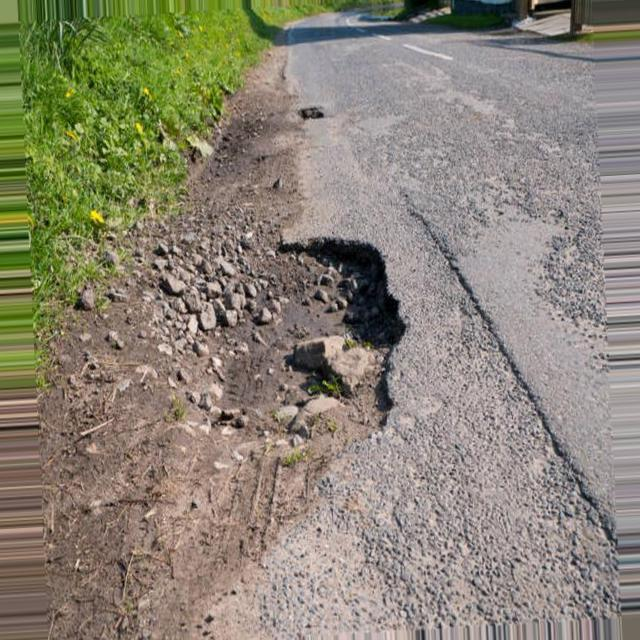Pinggir: (224, 223, 417, 569)
